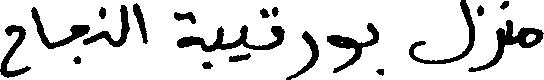X: (410, 0, 474, 76), (478, 0, 502, 75), (328, 30, 359, 77), (289, 26, 316, 79), (0, 20, 22, 79), (175, 7, 199, 52), (262, 2, 282, 54), (205, 21, 222, 73), (368, 18, 382, 79), (230, 20, 248, 66), (73, 20, 87, 68), (521, 22, 543, 52), (33, 2, 46, 51), (134, 0, 144, 47), (504, 0, 511, 51), (101, 2, 107, 45), (121, 0, 125, 50)
